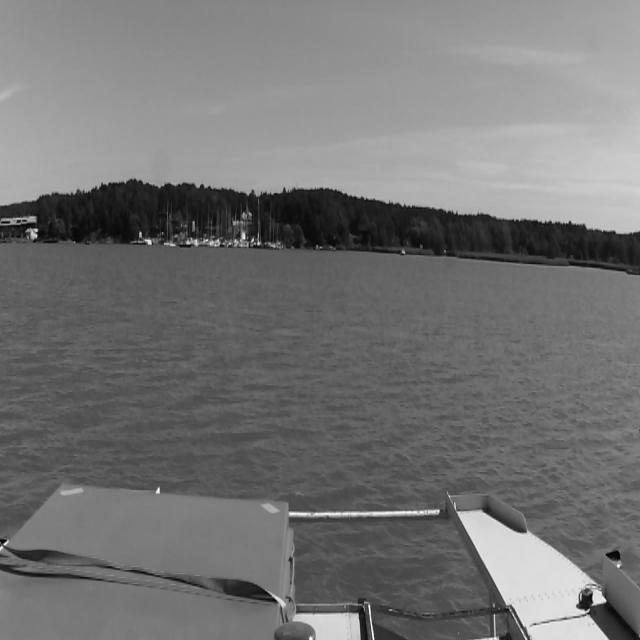ship: (215, 210, 227, 248), (240, 204, 248, 248), (229, 206, 237, 248), (195, 214, 205, 246), (206, 207, 214, 246), (256, 198, 262, 246), (164, 201, 170, 245)
